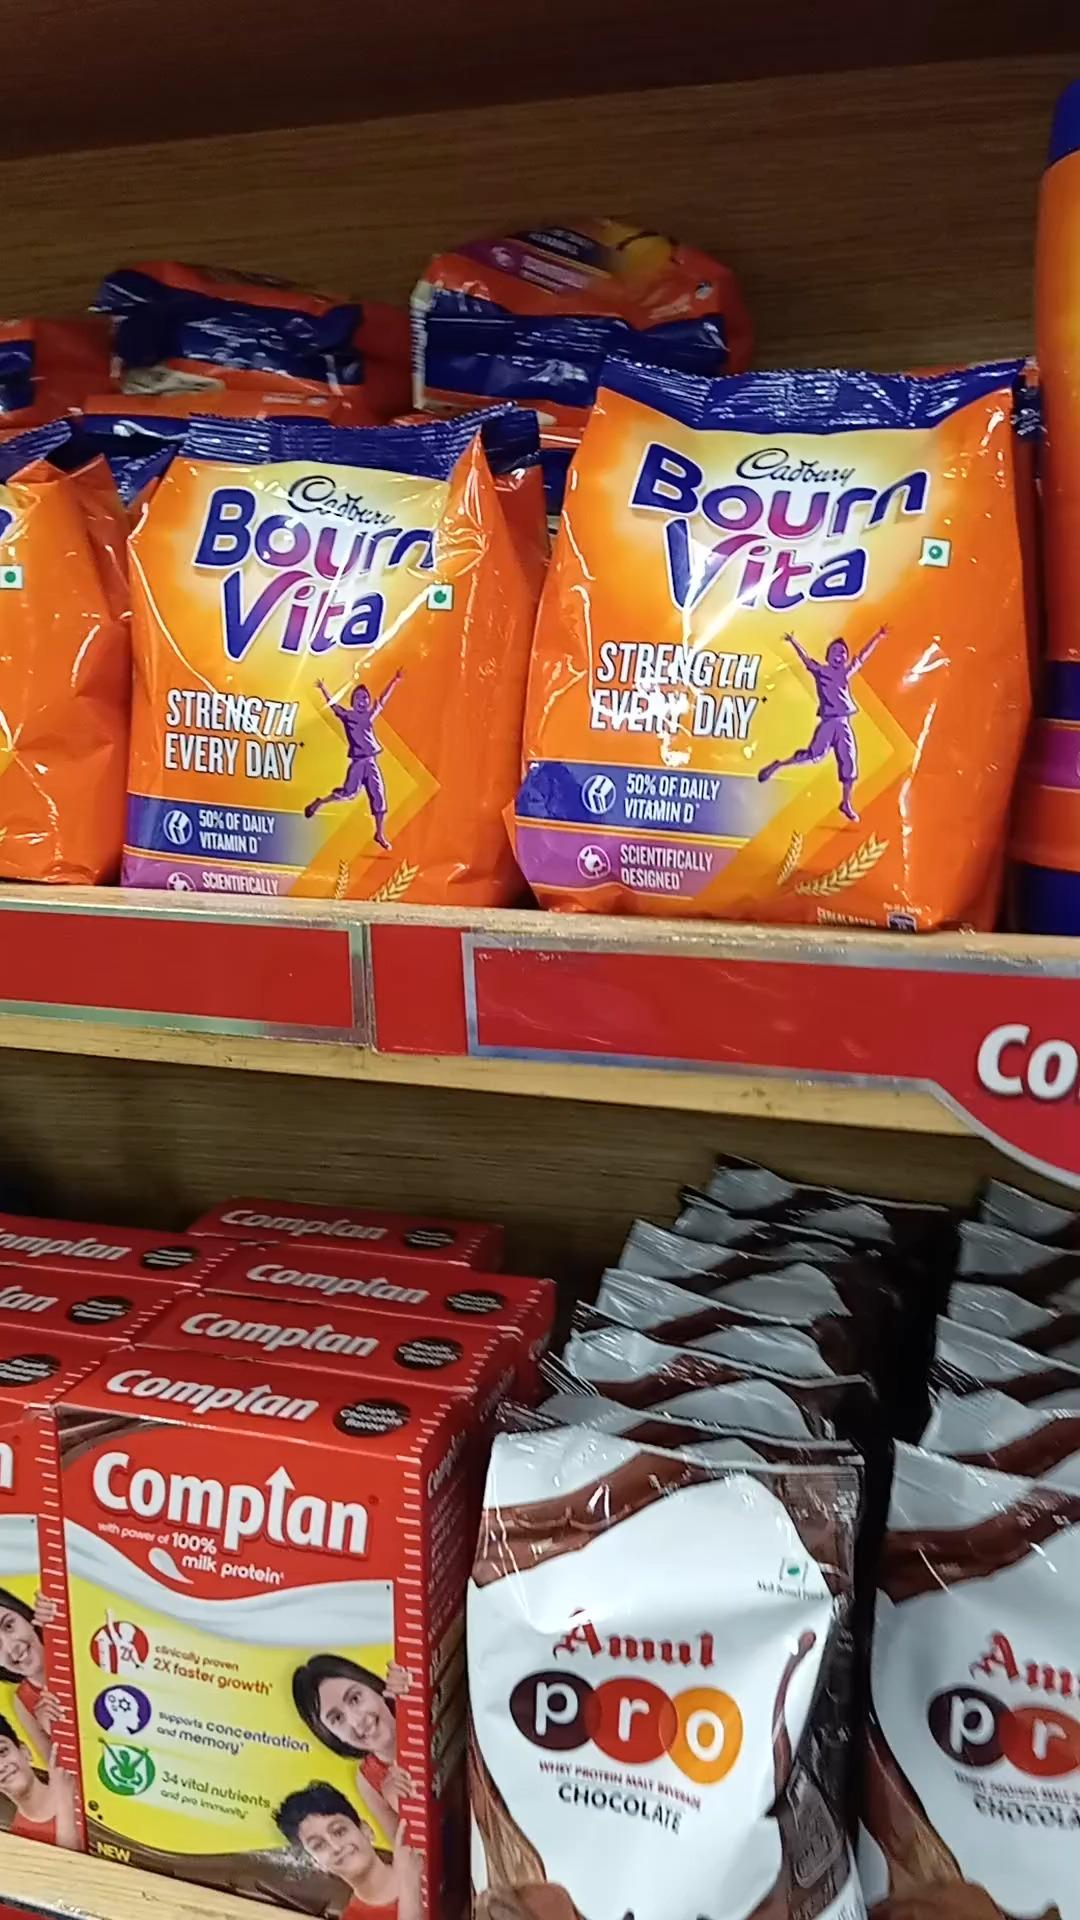BOURN_VITA_500_G_POUCH: (533, 335, 968, 926), (136, 400, 508, 906)
COMPLAN_CHOCOLATE_500_GMS_PACK: (73, 1396, 426, 1920)
